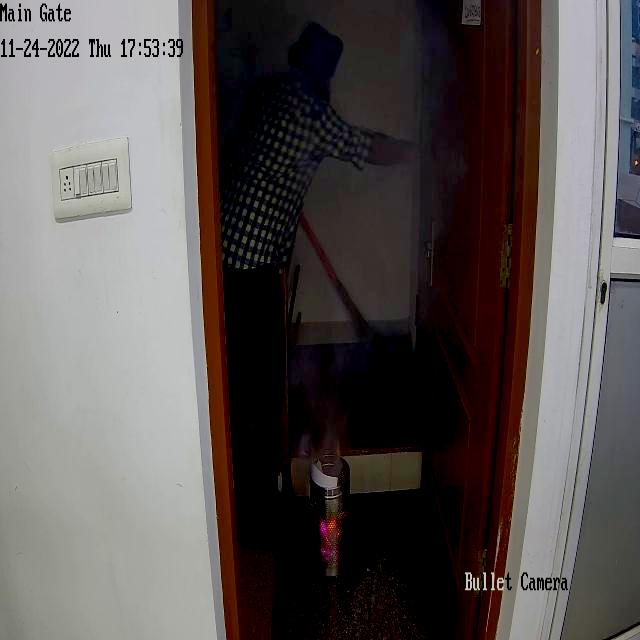fire: (318, 511, 337, 554)
smoke: (358, 194, 424, 266), (305, 367, 358, 448), (350, 332, 398, 400), (374, 253, 410, 327), (394, 144, 446, 192), (304, 280, 334, 344), (322, 168, 360, 216), (282, 355, 313, 378)
